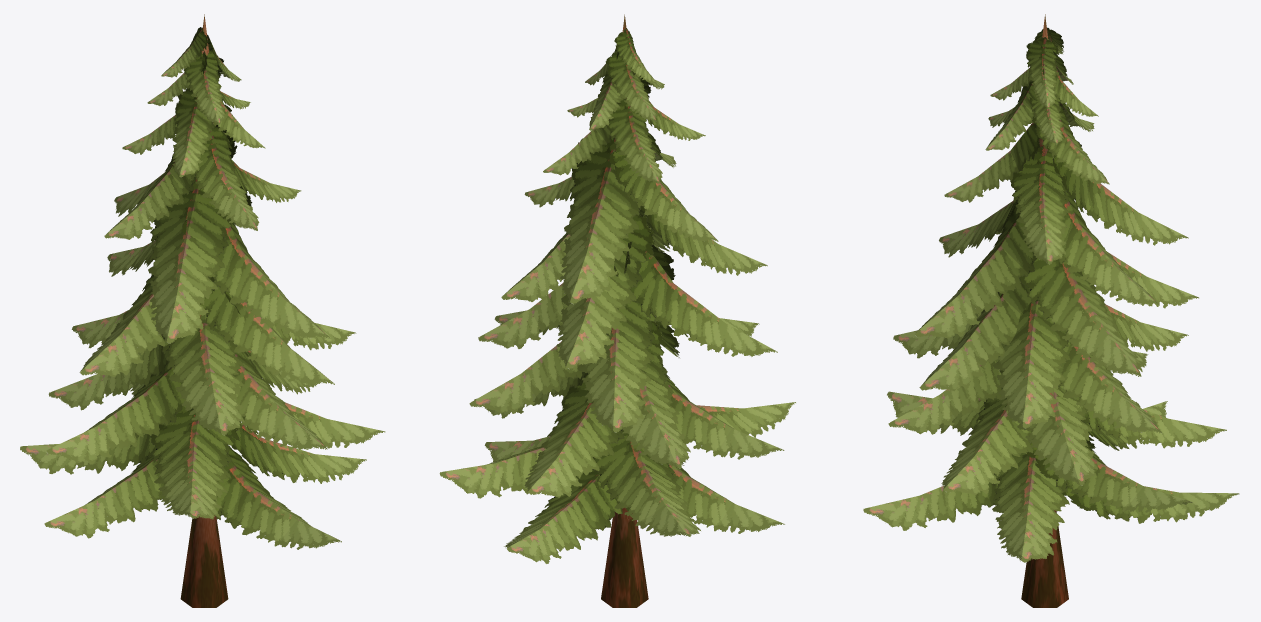
The model's file is Pine1.fbx.
3 views of the same model, side by side, from view 1: azimuth 30°, elevation 25°; view 2: azimuth 150°, elevation 25°; view 3: azimuth 270°, elevation 25° (orthographic).
Parts seen in each view (by area): view 1: Pine1_LOD0; view 2: Pine1_LOD0; view 3: Pine1_LOD0.
Boxes of the visible parts, bbox=[...] form: Pine1_LOD0: bbox=[20, 14, 385, 607]; Pine1_LOD0: bbox=[439, 14, 795, 607]; Pine1_LOD0: bbox=[863, 14, 1239, 607].
Size of what is drawn, in the model's own units: 10.75 by 19.03 by 11.77.
